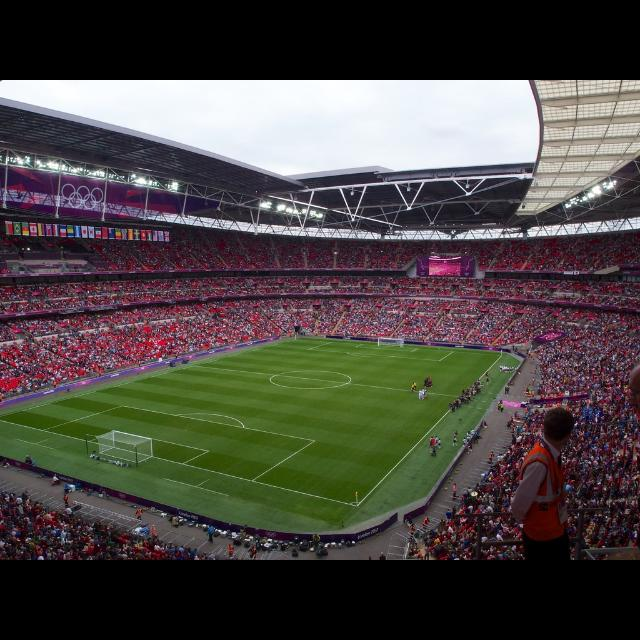Football: (411, 388, 413, 392)
